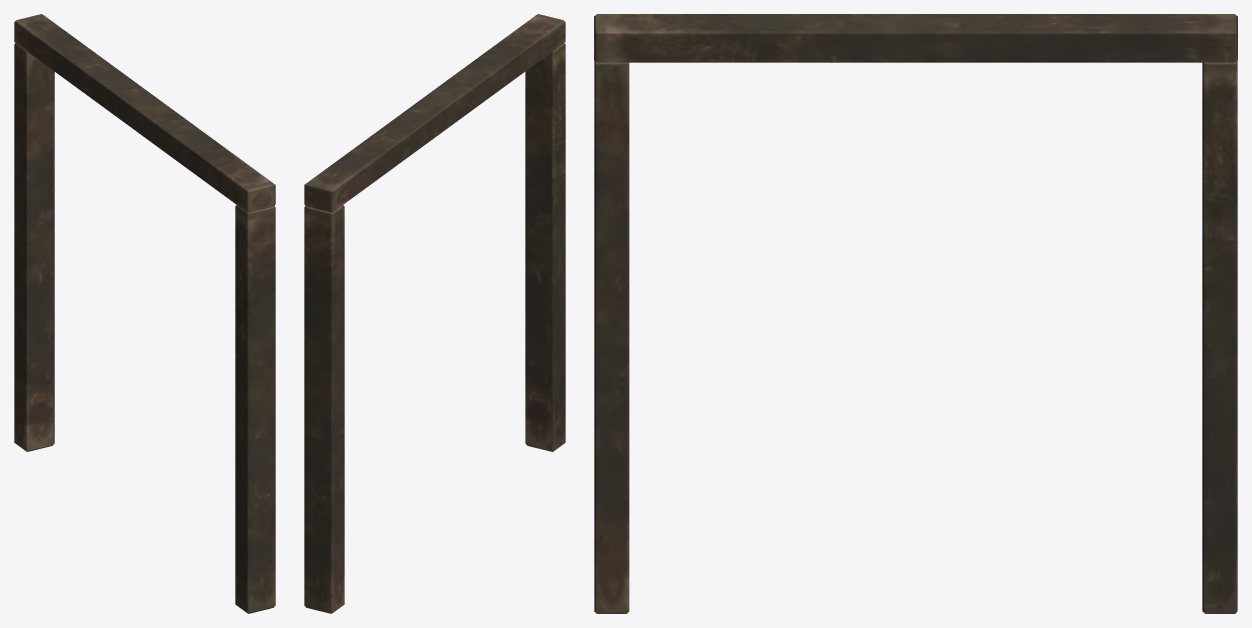
File: wall.frame.frontier.glb
3 views of the same model, side by side, from view 1: azimuth 30°, elevation 25°; view 2: azimuth 150°, elevation 25°; view 3: azimuth 270°, elevation 25° (orthographic). The views are drawn at different scales.
Visible parts, largest first — view 1: model; view 2: model; view 3: model.
Part boxes in pixels (x1,y1,x2,y2): model: (14, 14, 275, 613); model: (304, 14, 565, 613); model: (594, 14, 1237, 613).
Size of the model in its own units: 0.2187 by 3.01 by 3.02.
1 material, 1 textured.
